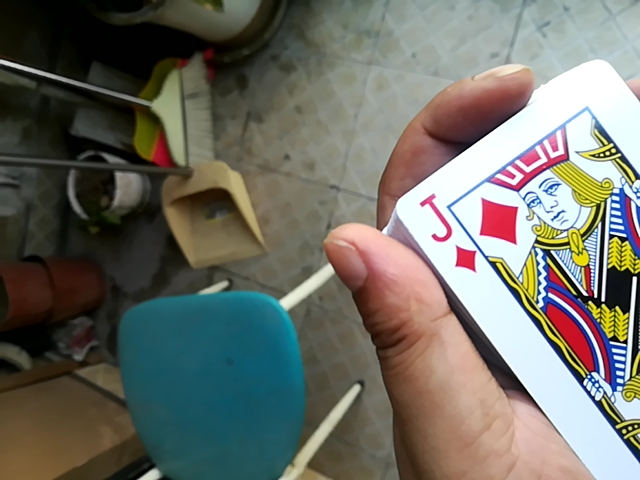fk j: (373, 74, 640, 470)
